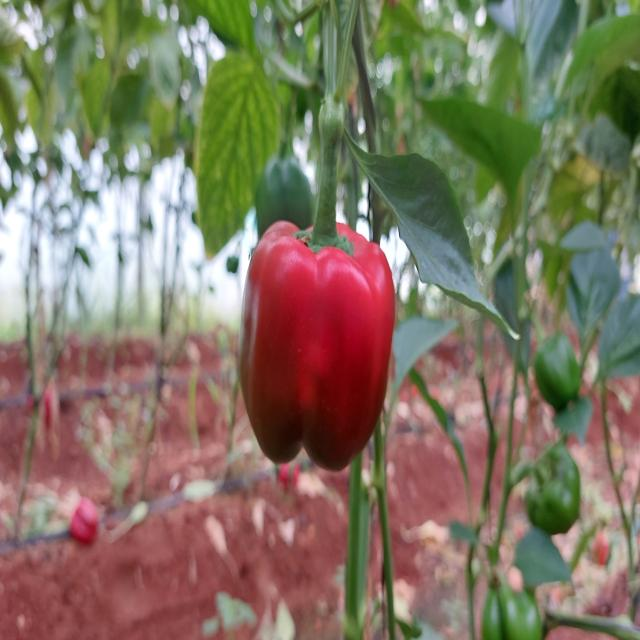Red-Ready-to-Harvest: (249, 219, 395, 472)
